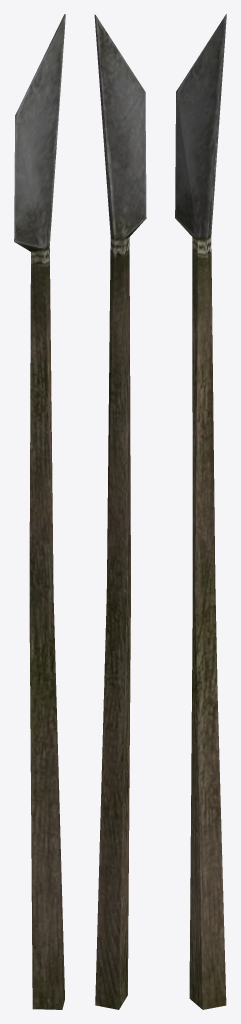
The model's file is PoleSkullsPike_Machete-transformed.glb.
3 views of the same model, side by side, from view 1: azimuth 30°, elevation 25°; view 2: azimuth 210°, elevation 25°; view 3: azimuth 330°, elevation 25° (orthographic).
Parts seen in each view (by area): view 1: default; view 2: default; view 3: default.
Part boxes in pixels (x1=…): default: x1=14, y1=14, x2=65, y2=1009; default: x1=94, y1=14, x2=146, y2=1009; default: x1=175, y1=14, x2=226, y2=1009.
Bounding box in the file's own units: 0.1411 × 2.6 × 0.1005.
Materials: 1 (1 with a texture image).
